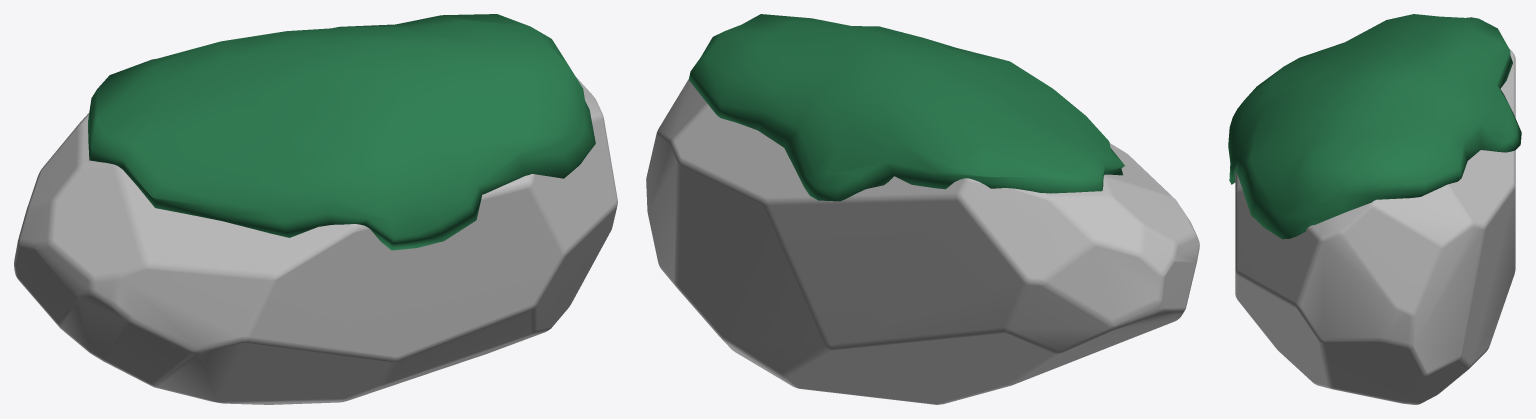
File: RockWithMossLarge.fbx
3 renders of one model, left to right at view 1: azimuth 30°, elevation 25°; view 2: azimuth 150°, elevation 25°; view 3: azimuth 270°, elevation 25°, orthographic. The views are drawn at different scales.
Parts seen in each view (by area): view 1: General_Rock_Big_05_low, Moss_Blobb_01; view 2: General_Rock_Big_05_low, Moss_Blobb_01; view 3: General_Rock_Big_05_low, Moss_Blobb_01.
Part boxes in pixels (x1,y1,x2,y2): General_Rock_Big_05_low: [14, 77, 617, 404]; Moss_Blobb_01: [88, 14, 595, 250]; General_Rock_Big_05_low: [646, 79, 1199, 404]; Moss_Blobb_01: [688, 14, 1124, 201]; General_Rock_Big_05_low: [1235, 48, 1515, 404]; Moss_Blobb_01: [1228, 14, 1521, 239].
Size of the model in its own units: 1.94 by 1.09 by 1.06.
